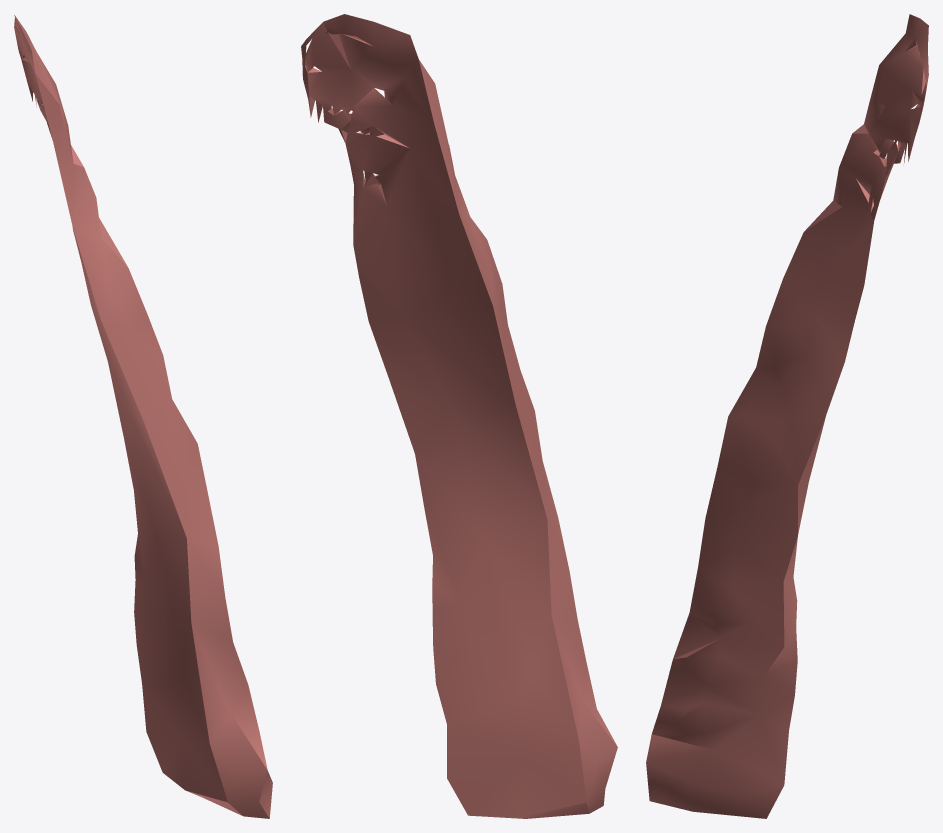
Rendered from fma38692-n_mm1812.glb.
3 renders of one model, left to right at view 1: azimuth 90°, elevation 25°; view 2: azimuth 150°, elevation 25°; view 3: azimuth 270°, elevation 25°, orthographic. The views are drawn at different scales.
Parts seen in each view (by area): view 1: FMA38692-N_MM1812; view 2: FMA38692-N_MM1812; view 3: FMA38692-N_MM1812.
Part boxes in pixels (<box>): FMA38692-N_MM1812: <box>14,15,272,818</box>; FMA38692-N_MM1812: <box>301,14,617,818</box>; FMA38692-N_MM1812: <box>646,14,928,818</box>.
Bounding box in the file's own units: 0.00874 × 0.0419 × 0.013.
